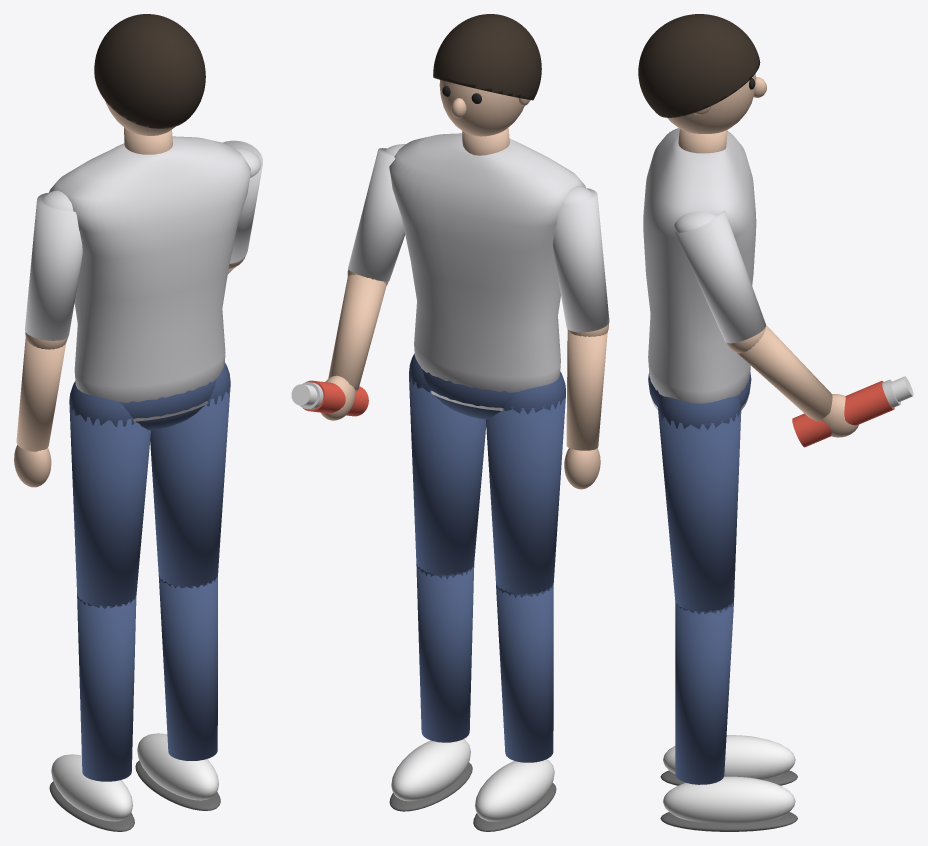
The model's file is human_1.glb.
3 renders of one model, left to right at view 1: azimuth 30°, elevation 25°; view 2: azimuth 150°, elevation 25°; view 3: azimuth 270°, elevation 25°, orthographic. The views are drawn at different scales.
Visible parts, largest first — view 1: Body, Leg_L, Leg_R, Arm_L, Arm_R; view 2: Body, Leg_L, Leg_R, Arm_L, Arm_R, Spray_Can; view 3: Body, Leg_R, Arm_R, Leg_L, Spray_Can.
Part boxes in pixels (box(x1,y1,x2,y2)): Body: box(49, 14, 250, 430); Leg_L: box(49, 381, 150, 831); Leg_R: box(135, 363, 230, 810); Arm_L: box(14, 190, 82, 487); Arm_R: box(223, 140, 262, 273); Body: box(389, 14, 585, 419); Leg_L: box(473, 372, 565, 831); Leg_R: box(389, 353, 486, 811); Arm_L: box(553, 186, 609, 489); Arm_R: box(321, 144, 405, 420); Spray_Can: box(291, 380, 368, 416); Body: box(638, 14, 766, 409); Leg_R: box(658, 396, 797, 831); Arm_R: box(674, 210, 858, 437); Leg_L: box(660, 735, 797, 785); Spray_Can: box(792, 376, 913, 447).
Size of the model in its own units: 0.5595 by 1.76 by 0.56.
